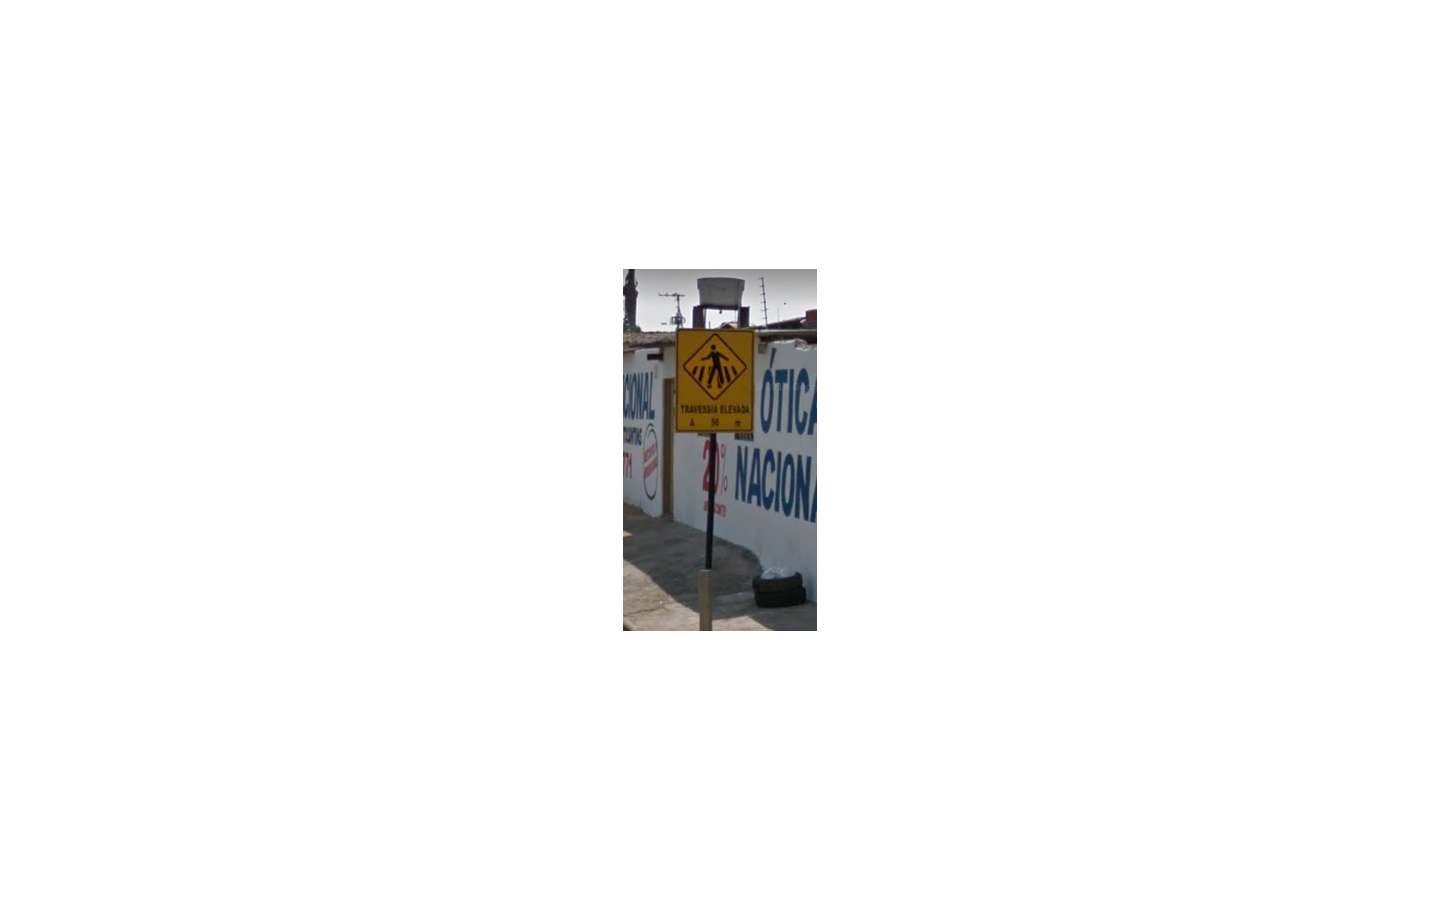t50m: (675, 328, 755, 433)
